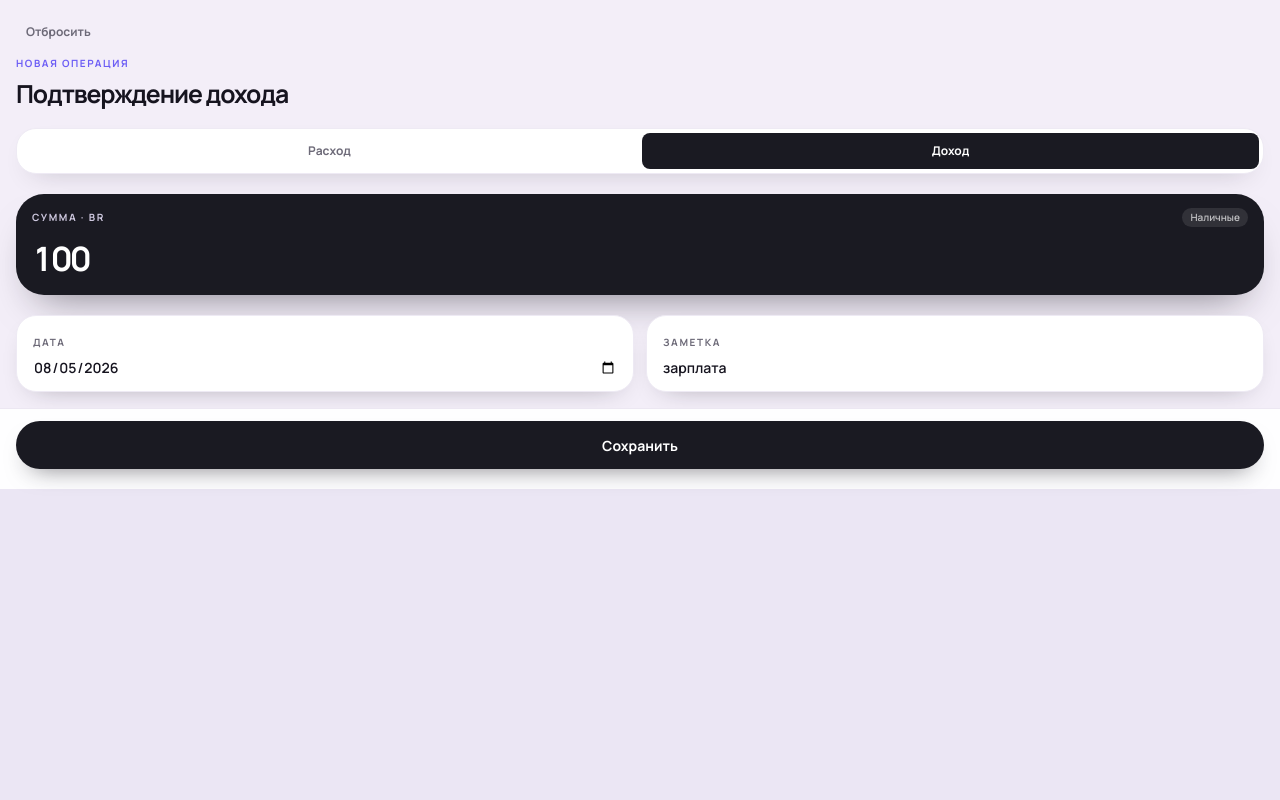
it: ConfirmDraft › voice: Income→Expense requires Category again
Click the button "Расход": (330, 151) [21, 133, 638, 169]
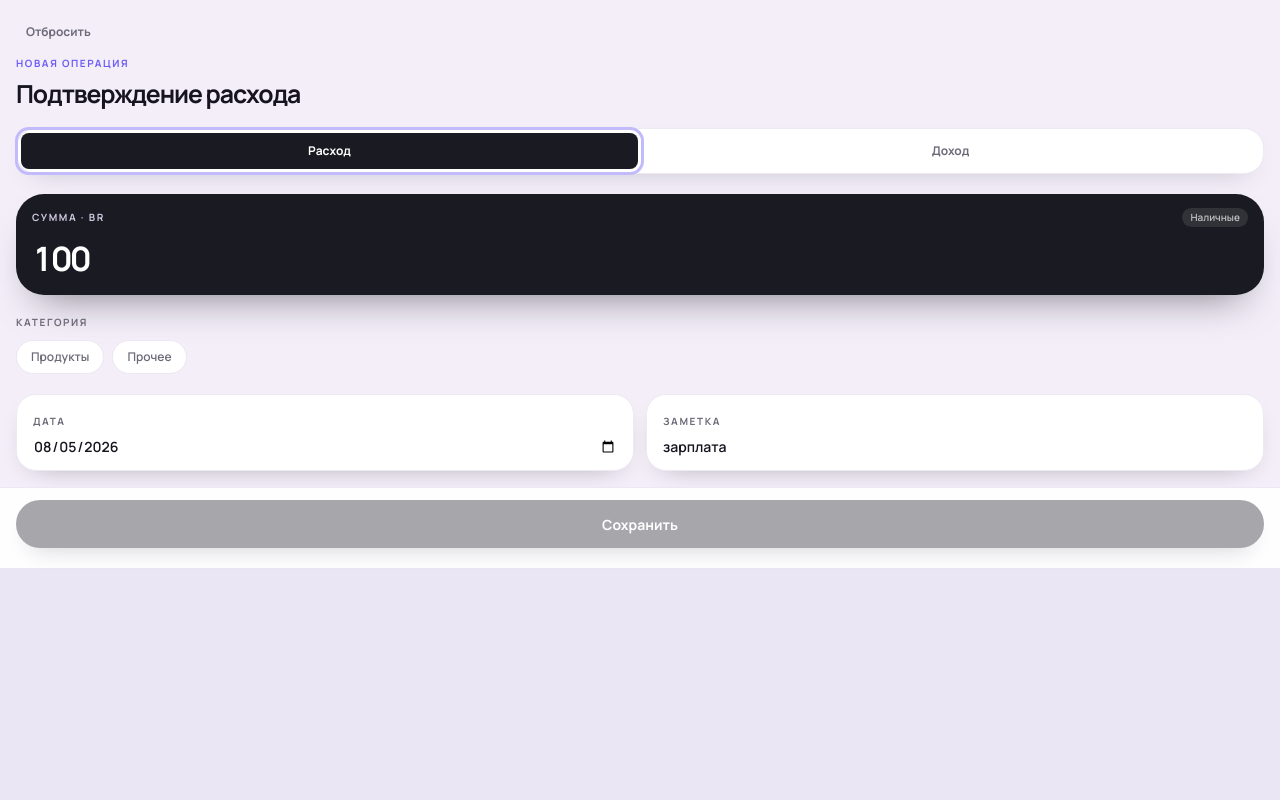
Expected: the heading "Подтверждение расхода" is shown, [16, 77, 300, 110]
Expected: the element named "Категория" is shown, [16, 340, 187, 374]
Expected: the button "Сохранить" is disabled, [16, 500, 1264, 548]
Click the button "Прочее": (150, 357) [112, 340, 187, 374]
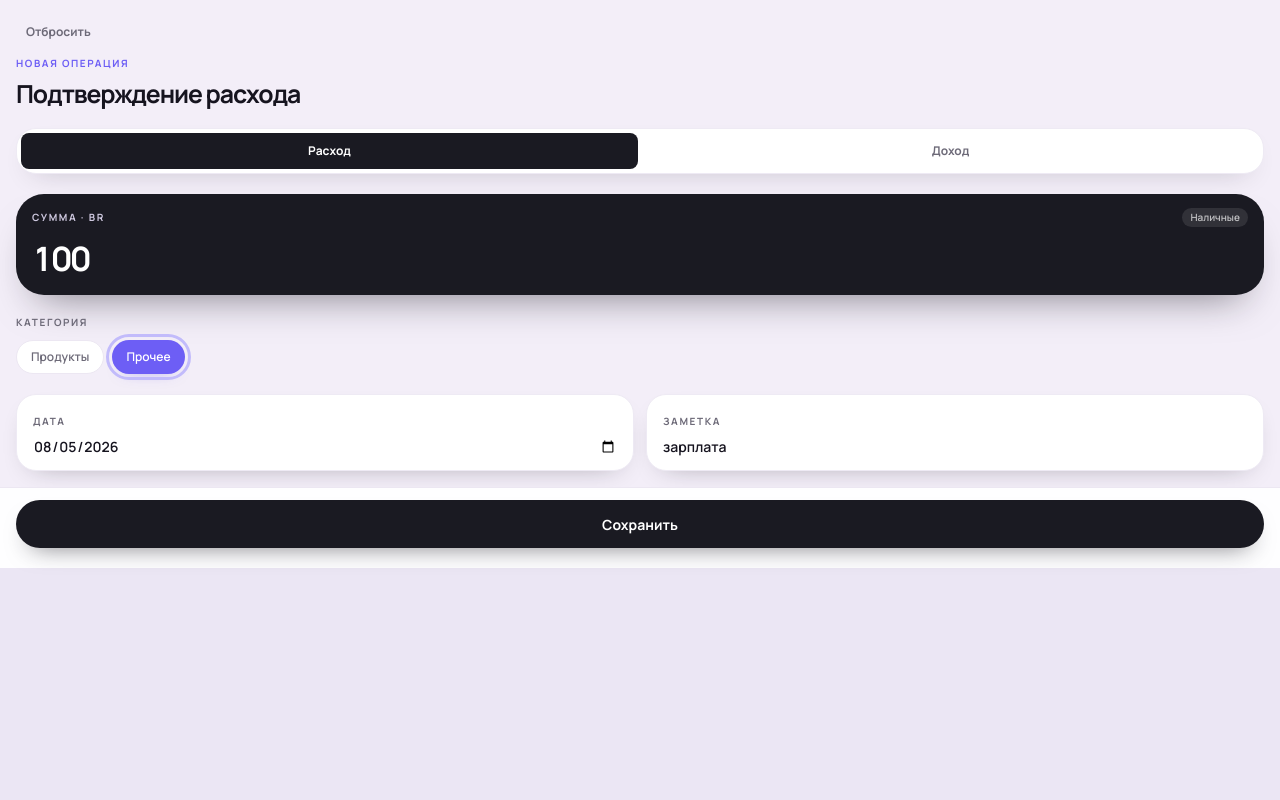
Expected: the button "Сохранить" is enabled, [16, 500, 1264, 548]
